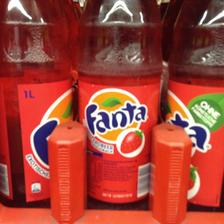Soda: (76, 0, 164, 208), (0, 0, 68, 207), (167, 0, 223, 212)
